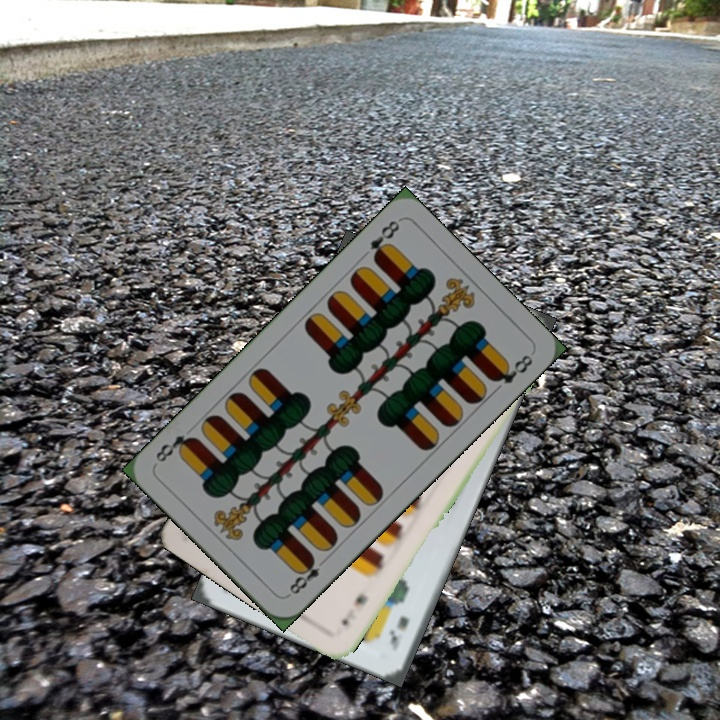E7: (337, 589, 371, 628)
E8: (283, 552, 330, 599), (365, 216, 402, 265)
EK: (385, 612, 412, 654)
